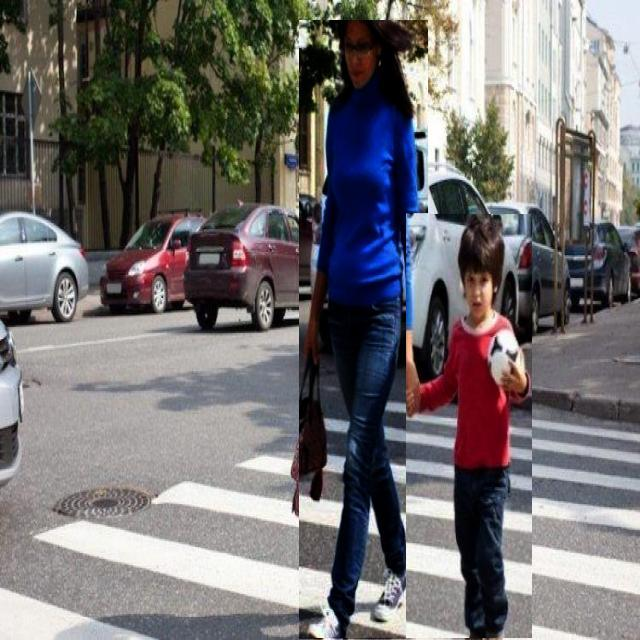without scooter: (300, 21, 428, 640), (406, 215, 532, 640)
